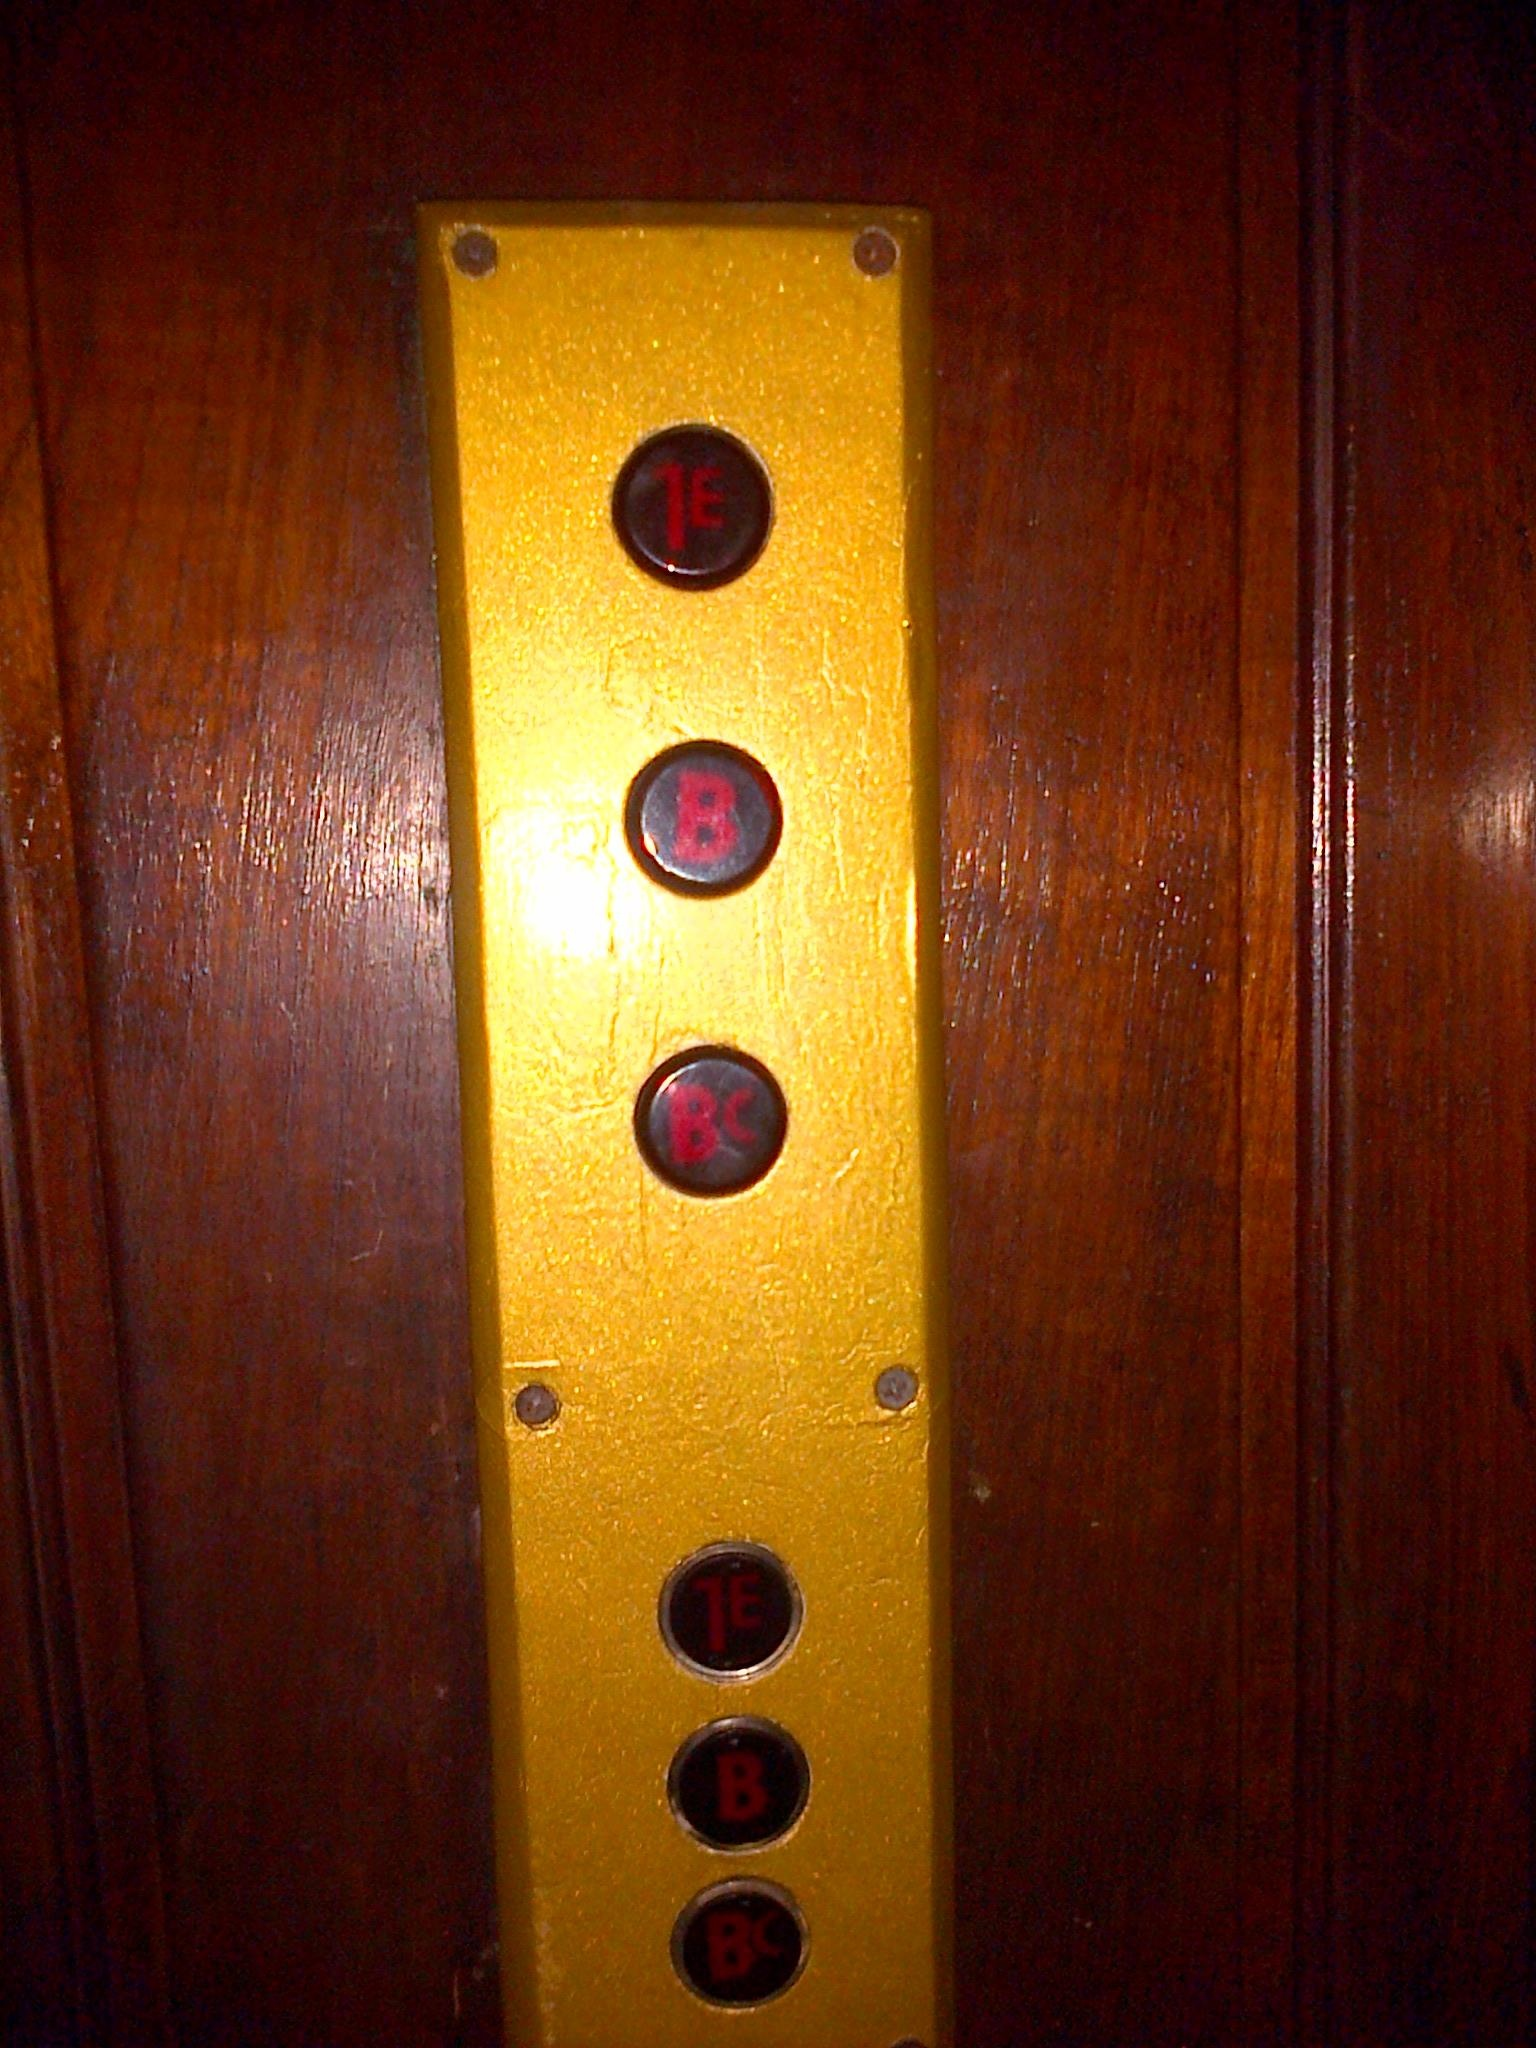1E: (607, 416, 781, 592), (658, 1535, 808, 1684)
B: (621, 727, 792, 905), (665, 1709, 816, 1856)
BC: (629, 1037, 794, 1209), (668, 1867, 816, 2017)
